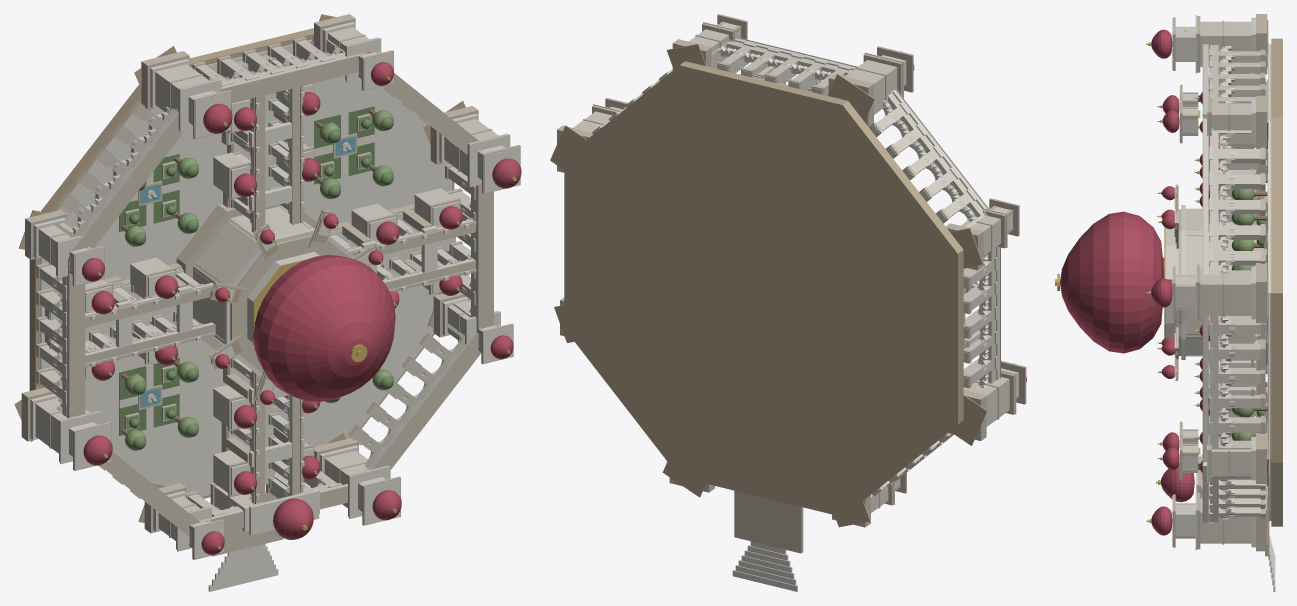
File: arabian_palace_v13.glb
3 renders of one model, left to right at view 1: azimuth 30°, elevation 25°; view 2: azimuth 150°, elevation 25°; view 3: azimuth 270°, elevation 25°, orthographic. The views are drawn at different scales.
Visible parts, largest first — view 1: Thin ivory foundation trim, Great central crimson dome, Central keep main body, Main sandstone foundation, Central keep roof terrace, Outer wall stone roof trim_7, Outer wall stone roof trim_3, Outer wall stone roof trim, Outer wall stone roof trim_2, Outer wall stone roof trim_4, Outer wall stone roof trim_5, Outer wall stone roof trim_1 (+42 smaller); view 2: Main sandstone foundation, Gate entrance landing, Main tower 3 shaft, Main tower 5 shaft, V12 tower foundation transition 3, V12 tower foundation transition 5, V12 tower foundation transition 1, Secondary tower 4 shaft, V12 tower foundation transition 4, Outer wall upper band_3, V12 tower foundation transition 2; view 3: Great central crimson dome, Main sandstone foundation, Main tower 1 shaft, Central keep main body, Main tower 3 shaft, Main ivory foundation, Main tower 7 shaft, Secondary tower 2 shaft, Secondary tower 8 shaft, Great dome ivory drum, Outer wall upper band_1, Gate crimson dome (+41 smaller).
Part boxes in pixels (x1,y1,x2,y2): Thin ivory foundation trim: [40, 40, 451, 496]; Great central crimson dome: [253, 255, 395, 401]; Central keep main body: [193, 206, 313, 345]; Main sandstone foundation: [29, 28, 454, 498]; Central keep roof terrace: [230, 234, 349, 373]; Outer wall stone roof trim_7: [373, 333, 481, 469]; Outer wall stone roof trim_3: [73, 115, 183, 250]; Outer wall stone roof trim: [477, 184, 493, 337]; Outer wall stone roof trim_2: [221, 53, 367, 102]; Outer wall stone roof trim_4: [69, 261, 85, 417]; Outer wall stone roof trim_5: [100, 452, 200, 536]; Outer wall stone roof trim_1: [382, 73, 478, 154]; Main sandstone foundation: [564, 61, 963, 516]; Gate entrance landing: [734, 490, 803, 553]; Main tower 3 shaft: [845, 60, 897, 114]; Main tower 5 shaft: [963, 377, 1009, 426]; V12 tower foundation transition 3: [827, 73, 874, 121]; V12 tower foundation transition 5: [950, 395, 986, 445]; V12 tower foundation transition 1: [550, 125, 586, 169]; Secondary tower 4 shaft: [960, 216, 1000, 255]; V12 tower foundation transition 4: [950, 228, 983, 267]; Outer wall upper band_3: [893, 89, 987, 209]; V12 tower foundation transition 2: [666, 44, 706, 69]; Great central crimson dome: [1060, 211, 1164, 353]; Main sandstone foundation: [1271, 38, 1282, 526]; Main tower 1 shaft: [1200, 270, 1251, 315]; Central keep main body: [1185, 208, 1237, 356]; Main tower 3 shaft: [1200, 21, 1251, 66]; Main ivory foundation: [1269, 44, 1271, 520]; Main tower 7 shaft: [1200, 498, 1251, 543]; Secondary tower 2 shaft: [1211, 103, 1251, 139]; Secondary tower 8 shaft: [1211, 440, 1251, 476]; Great dome ivory drum: [1165, 227, 1178, 337]; Outer wall upper band_1: [1203, 118, 1208, 274]; Gate crimson dome: [1160, 463, 1194, 502].
Bounding box in the file's own units: 176 × 202 × 80.15.
